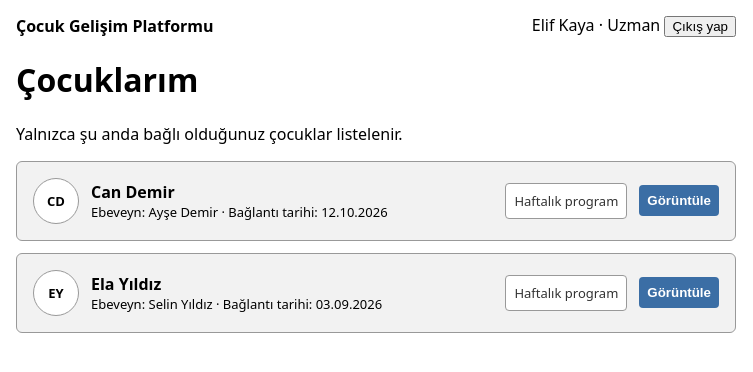
Test: SpecialistChildrenPage › asks for the tasks of the chosen child and lists them with their status
Click the button "Görüntüle" in the row of "03.09.2026" at (679, 293), box [639, 277, 719, 308]
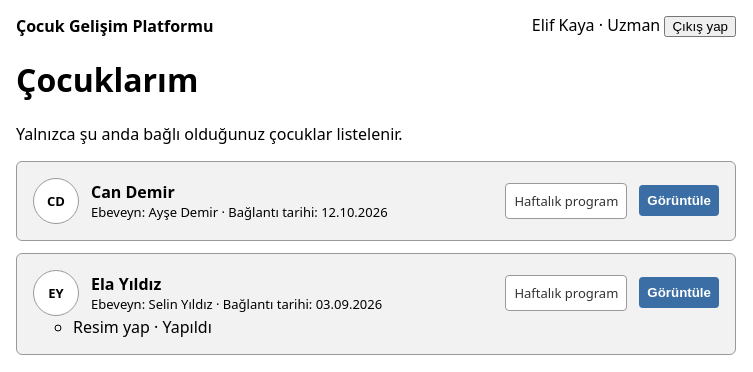
Result: the list item with test id "task" reads "Resim yap · Yapıldı" at [73, 316, 212, 338]
